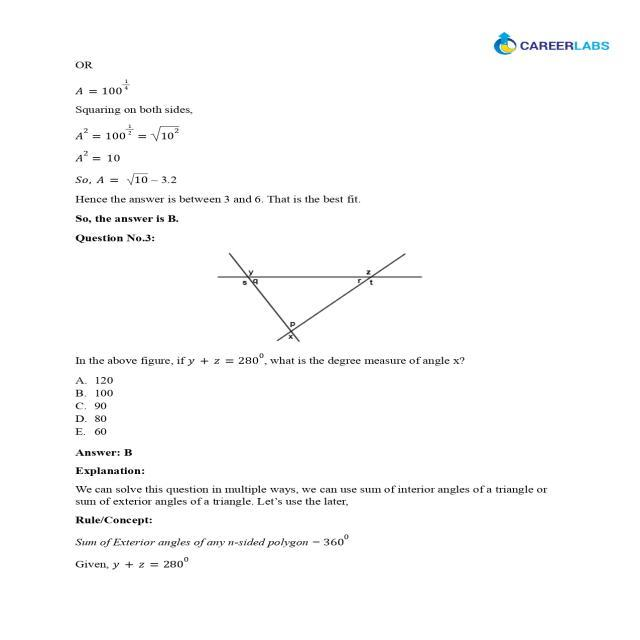Answer_Block: (68, 370, 568, 444)
Description: (68, 59, 568, 230), (68, 444, 568, 575)
Question_Answer_Block: (68, 231, 568, 444)
Question_Block: (68, 231, 568, 372)
Question_Paper_Area: (68, 58, 568, 576)
